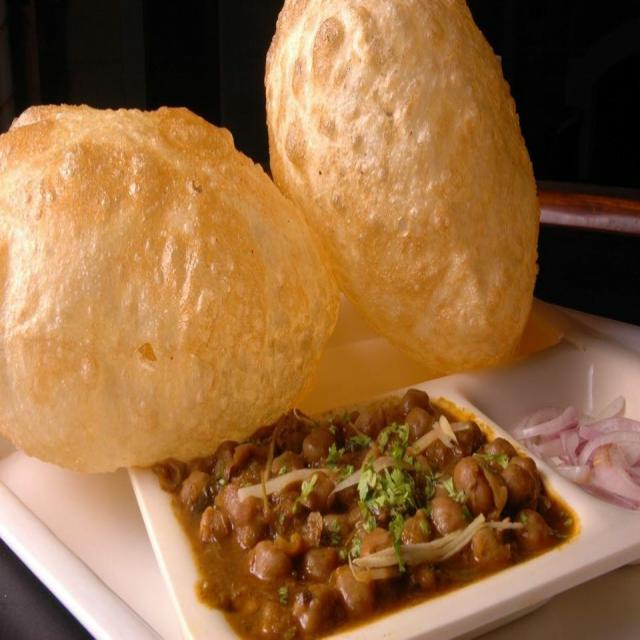Bhatura: (1, 102, 339, 476), (264, 0, 540, 368)
Chole: (190, 384, 547, 640)
